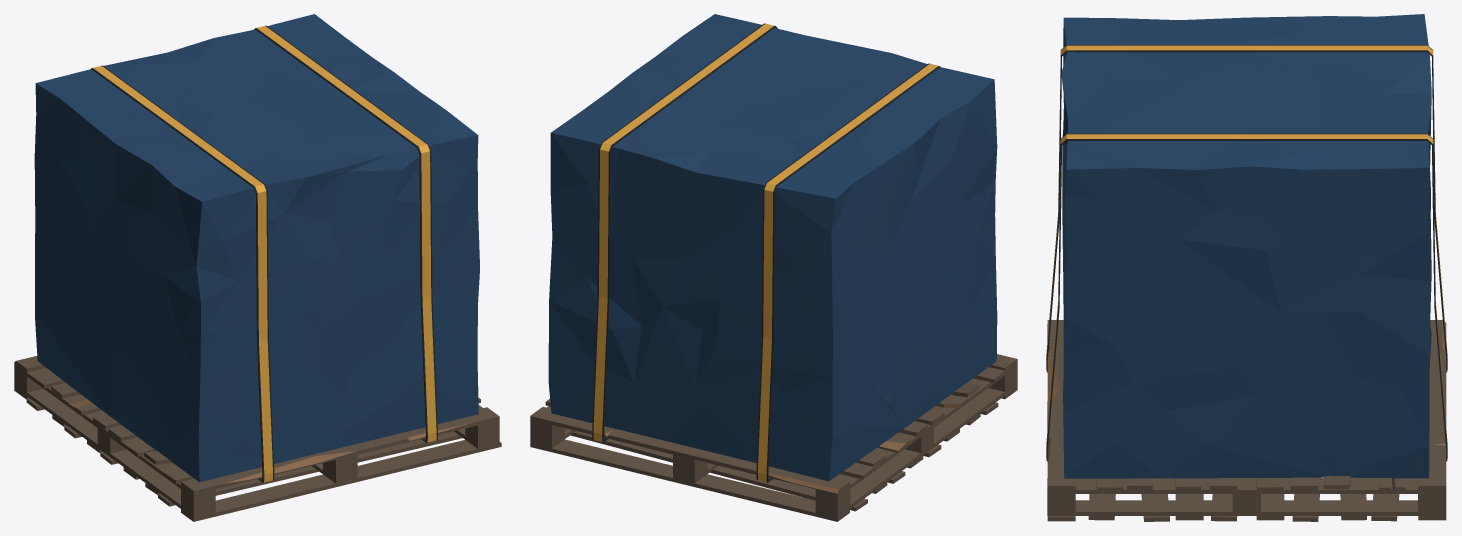
Rendered from SM_CARGO.glb.
3 views of the same model, side by side, from view 1: azimuth 30°, elevation 25°; view 2: azimuth 150°, elevation 25°; view 3: azimuth 270°, elevation 25° (orthographic). The views are drawn at different scales.
Visible parts, largest first — view 1: SM_CARGO; view 2: SM_CARGO; view 3: SM_CARGO.
Part boxes in pixels (x1,y1,x2,y2): SM_CARGO: (14,14,501,521); SM_CARGO: (530,14,1017,521); SM_CARGO: (1046,14,1447,521).
Bounding box in the file's own units: 1.02 × 0.9589 × 1.01.
1 material, 1 textured.
